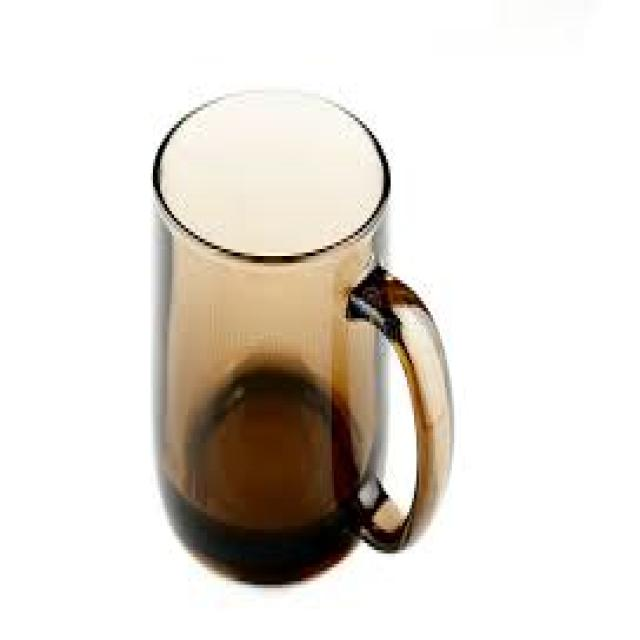glass: (148, 83, 454, 585)
